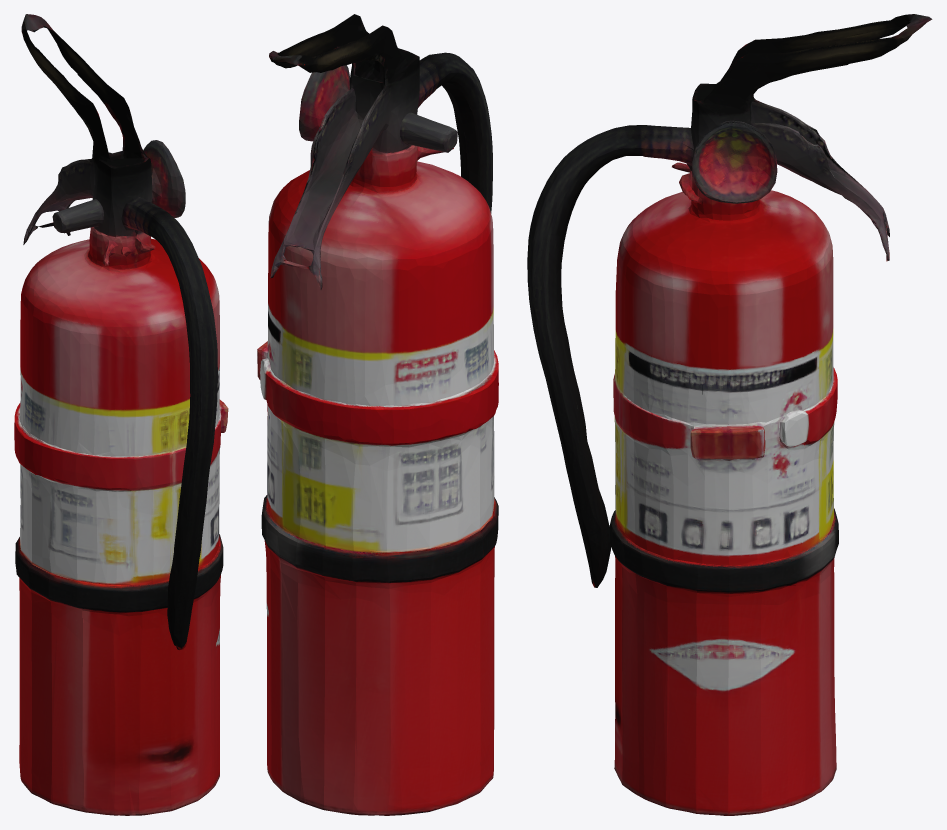
The model's file is deae6c47-09d0-46f5-900a-6082ee246e85.glb.
The picture shows the model from 3 angles, left to right: view 1: azimuth 30°, elevation 25°; view 2: azimuth 150°, elevation 25°; view 3: azimuth 270°, elevation 25°; orthographic projection. The views are drawn at different scales.
Visible parts, largest first — view 1: world; view 2: world; view 3: world.
Boxes of the visible parts, <box> form: world: <box>14,14,228,815</box>; world: <box>257,14,498,815</box>; world: <box>527,14,932,815</box>.
Size of the model in its own units: 0.2897 by 1 by 0.4884.
Materials: 1 (1 with a texture image).
